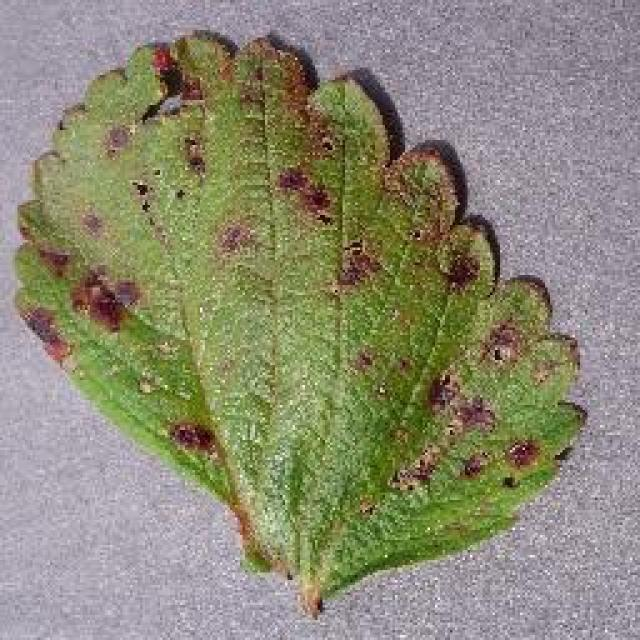Strawberry leaf scorch: (68, 75, 510, 485)
